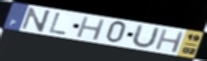0: (104, 21, 129, 46)
H: (153, 28, 186, 54), (74, 16, 107, 42)
L: (47, 12, 68, 36)
N: (20, 6, 53, 33)
U: (129, 24, 161, 50)
